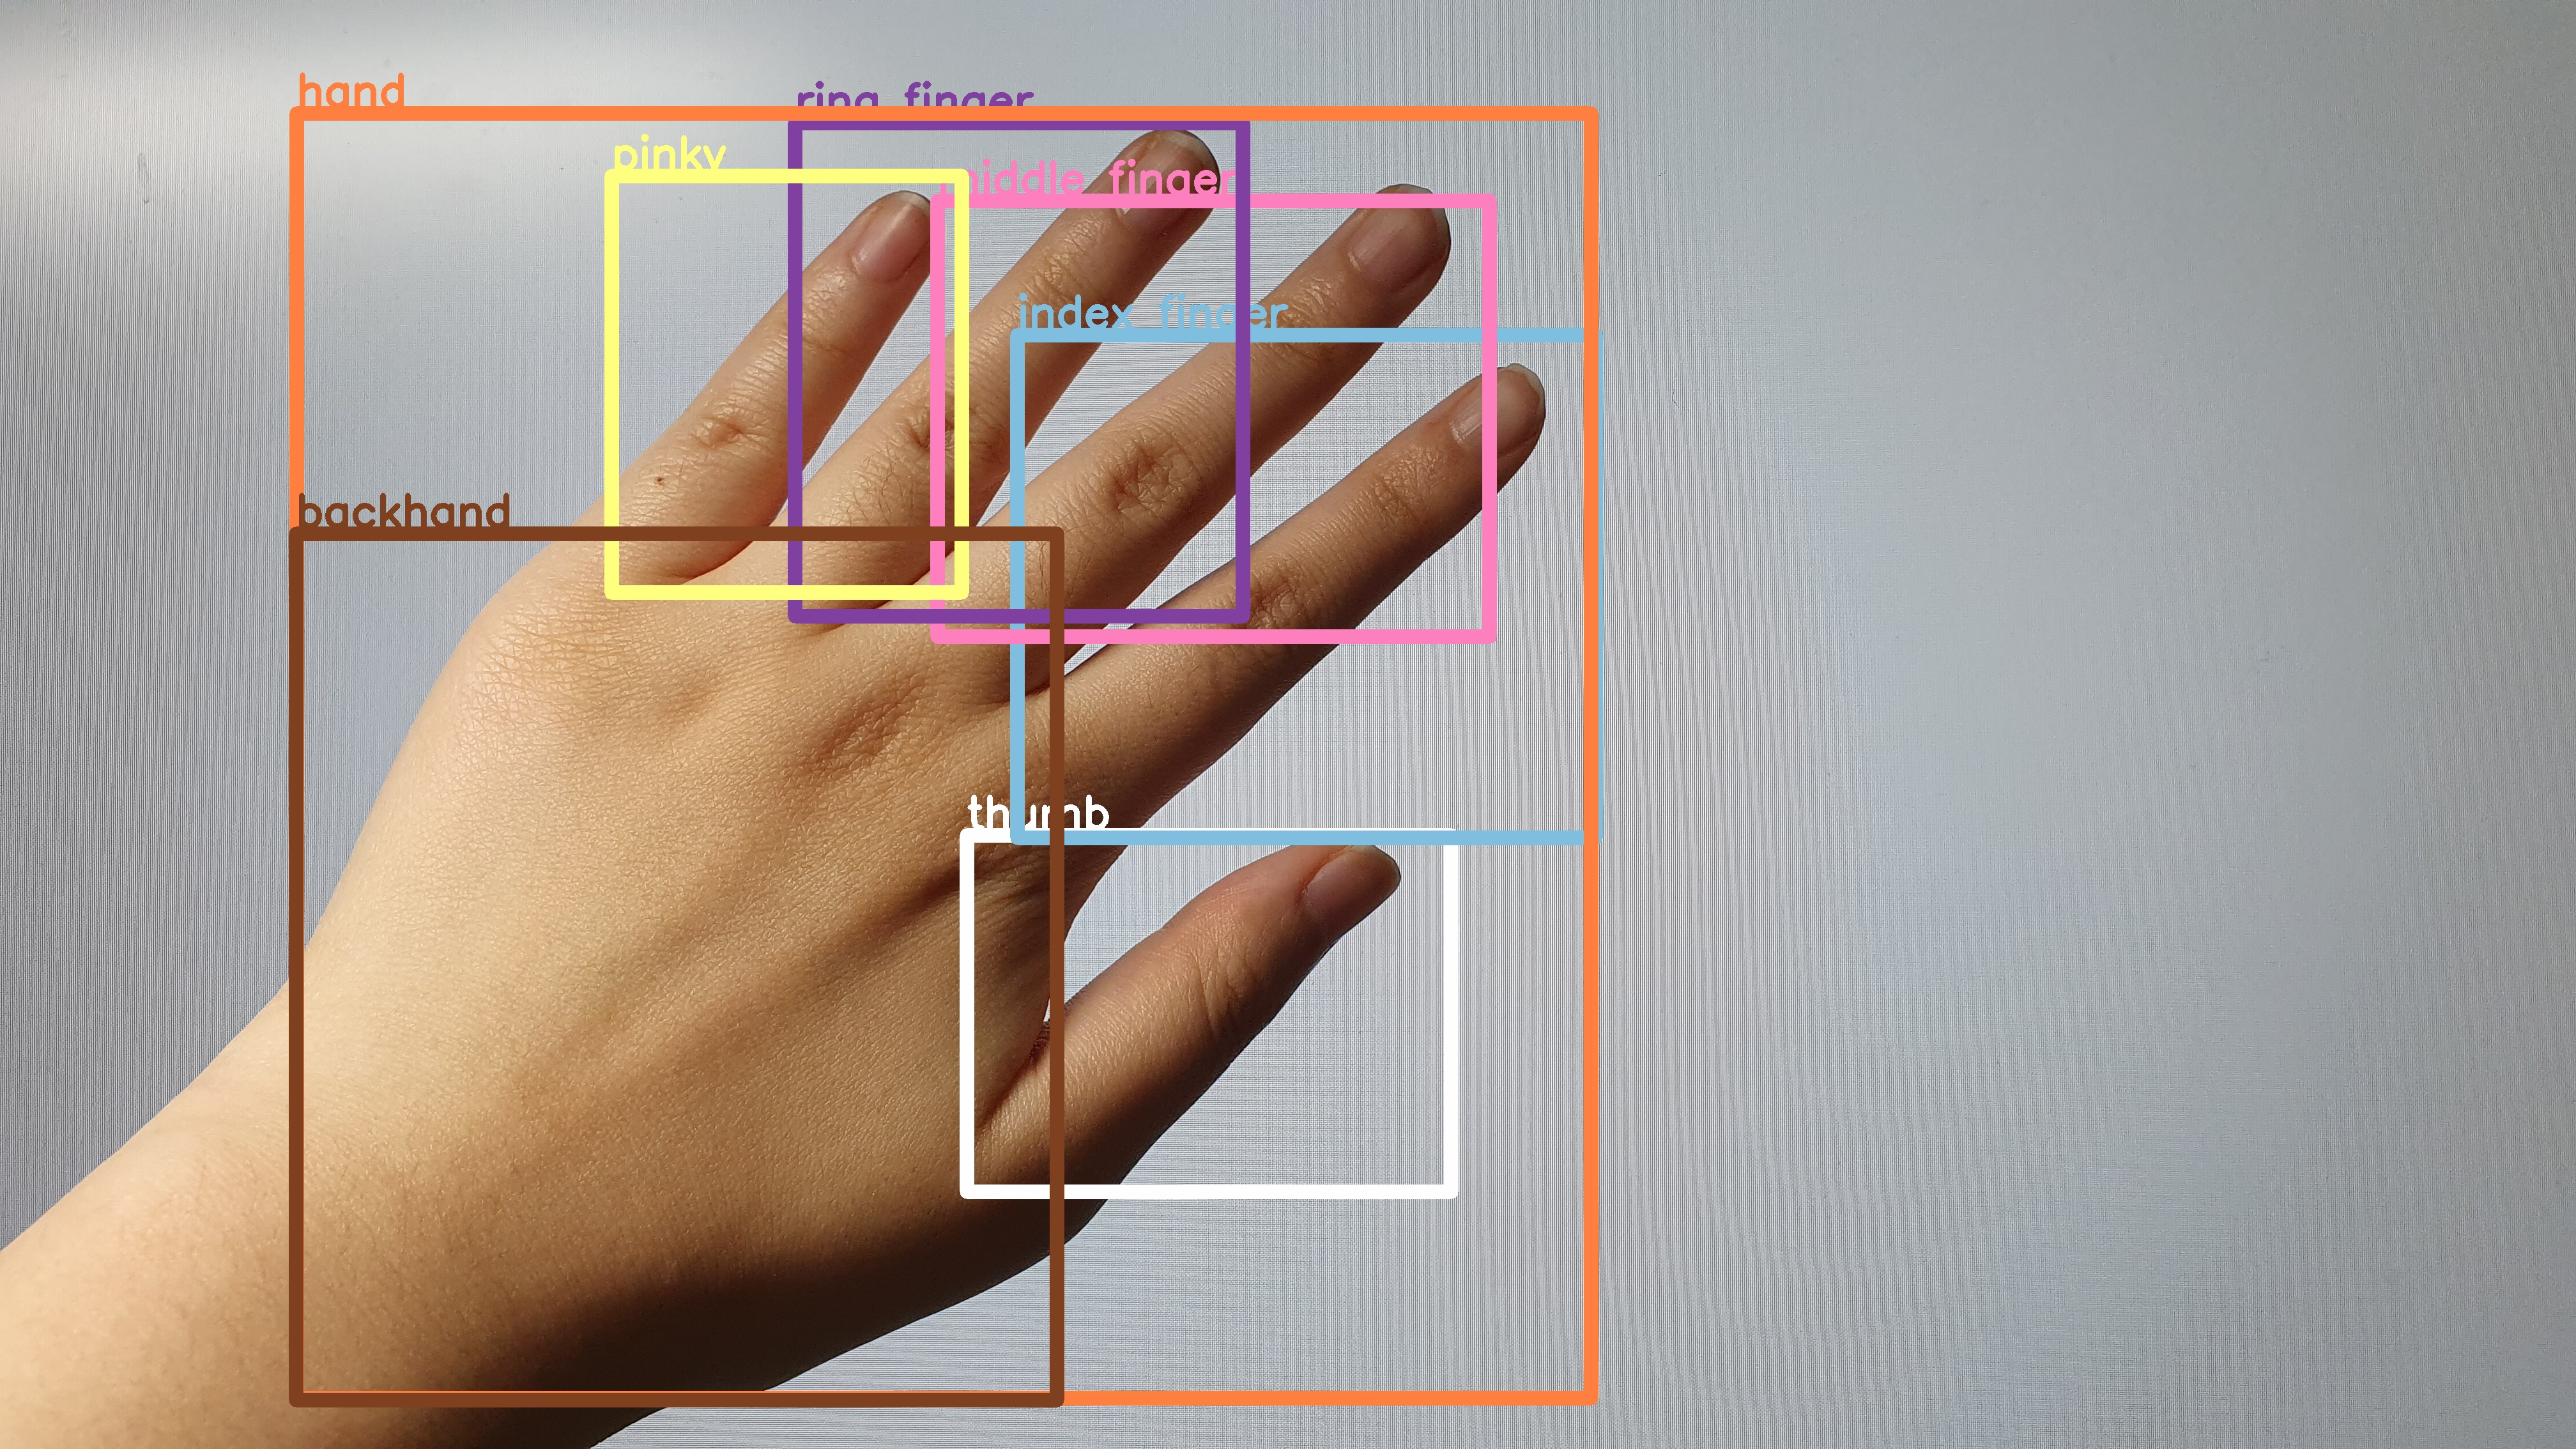backhand: (310, 577, 1049, 1334)
hand: (297, 110, 1541, 1371)
index finger: (1044, 349, 1566, 823)
middle finger: (927, 180, 1465, 681)
pinky: (602, 193, 952, 594)
ring finger: (791, 113, 1237, 632)
thumb: (991, 814, 1408, 1212)
